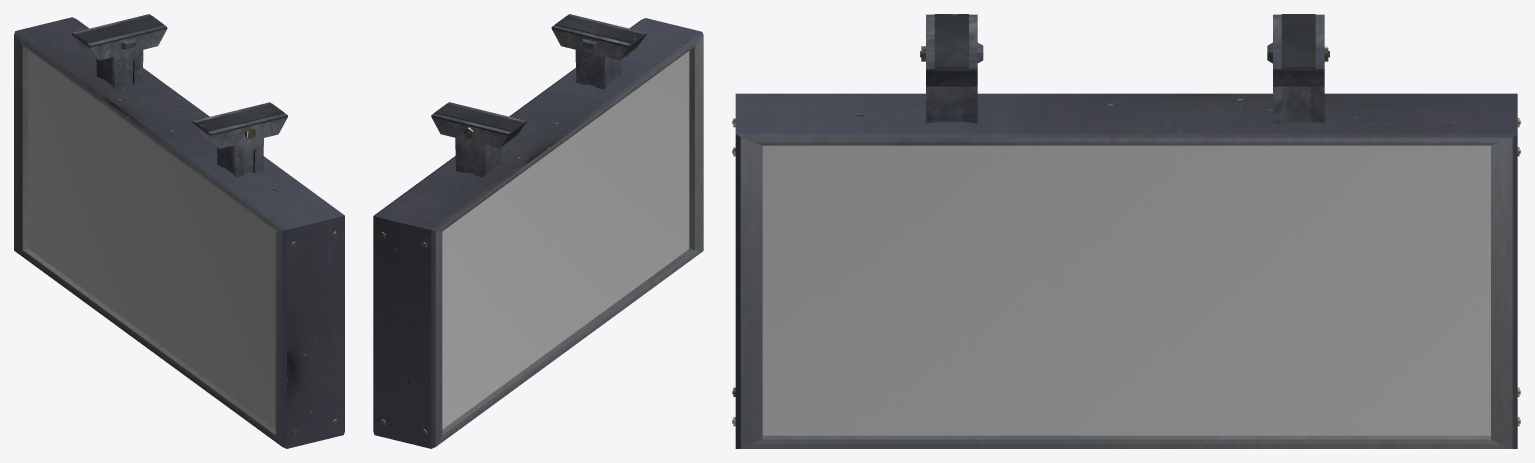
File: sign.glb
3 views of the same model, side by side, from view 1: azimuth 30°, elevation 25°; view 2: azimuth 150°, elevation 25°; view 3: azimuth 270°, elevation 25° (orthographic). The views are drawn at different scales.
Parts seen in each view (by area): view 1: theatresign; view 2: theatresign; view 3: theatresign.
Boxes of the visible parts, x1,y1,x2,y2 form: theatresign: [14, 14, 344, 448]; theatresign: [373, 14, 703, 448]; theatresign: [732, 14, 1520, 448].
Size of the model in its own units: 44.29 by 147 by 271.
1 material, 1 textured.
